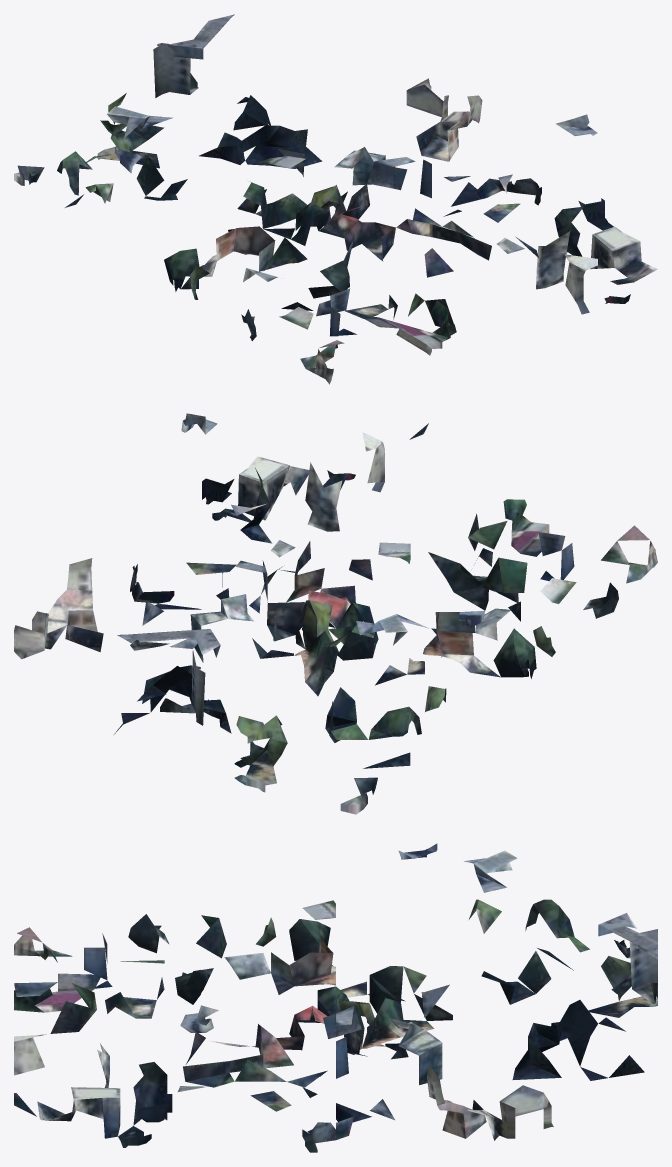
3 renders of one model, top to bottom at view 1: azimuth 30°, elevation 25°; view 2: azimuth 150°, elevation 25°; view 3: azimuth 270°, elevation 25°, orthographic. The views are drawn at different scales.
Parts seen in each view (by area): view 1: 304362727043614144_1; view 2: 304362727043614144_1; view 3: 304362727043614144_1.
Part boxes in pixels (x1,y1,x2,y2): 304362727043614144_1: (14,14,657,384); 304362727043614144_1: (14,413,657,814); 304362727043614144_1: (14,843,657,1152).
Bounding box in the file's own units: 109 × 36.99 × 153.
Materials: 1 (1 with a texture image).
